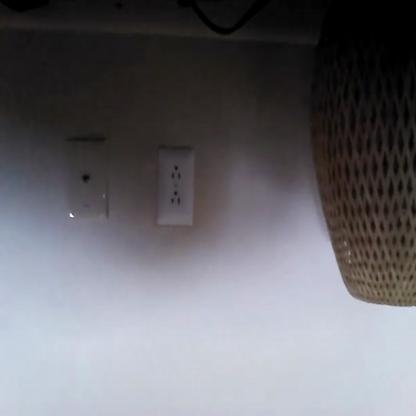OUTLET: (156, 149, 195, 226)
